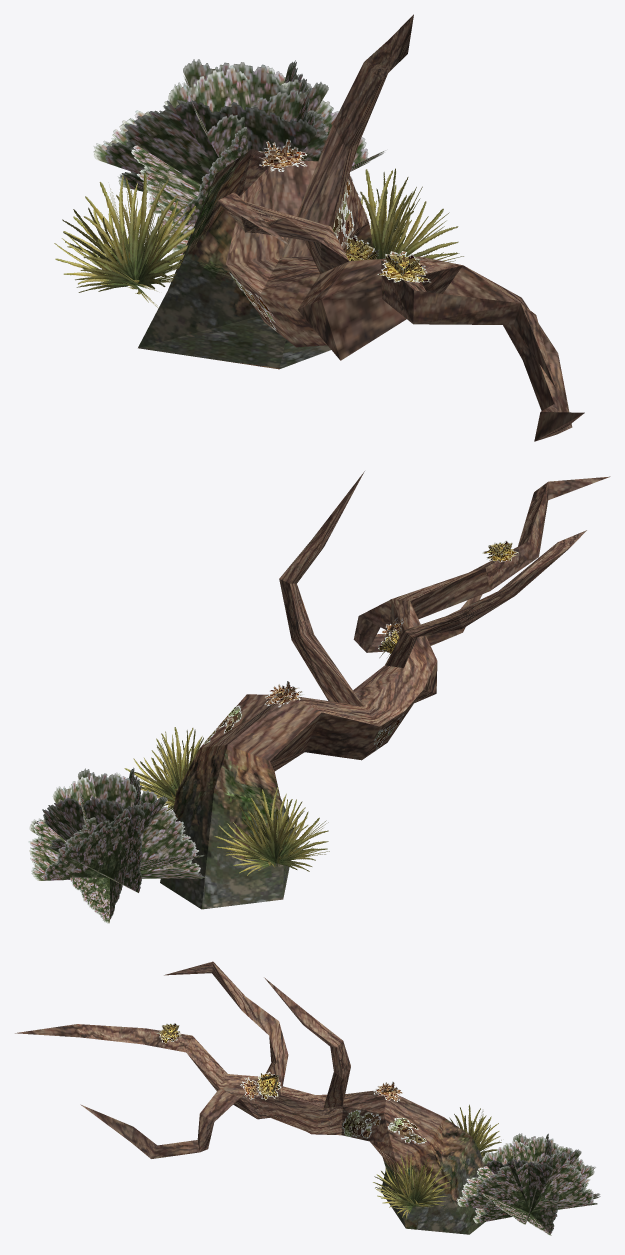
Rendered from C1SNDEADTREEB.obj.
3 renders of one model, top to bottom at view 1: azimuth 30°, elevation 25°; view 2: azimuth 150°, elevation 25°; view 3: azimuth 270°, elevation 25°, orthographic. The views are drawn at different scales.
Visible parts, largest first — view 1: Node 0; view 2: Node 0; view 3: Node 0.
Boxes of the visible parts, bbox=[...] form: Node 0: bbox=[54, 14, 584, 441]; Node 0: bbox=[28, 471, 610, 923]; Node 0: bbox=[15, 961, 600, 1235].
Bounding box in the file's own units: 5.49 × 4.98 × 11.44.
Materials: 5 (5 with a texture image).
